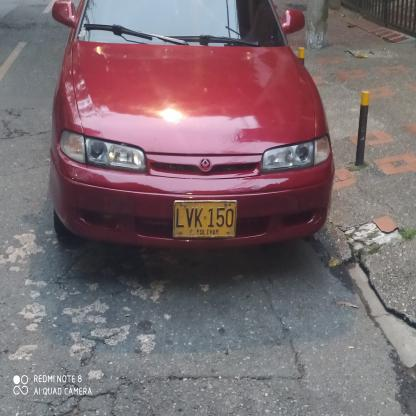placa: (169, 198, 241, 242)
